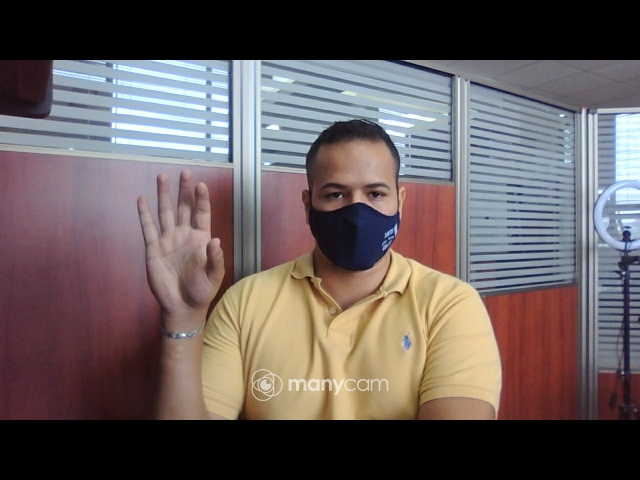Hello: (133, 167, 227, 322)
